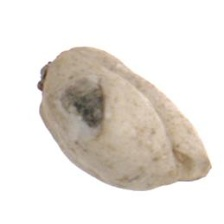L1: (165, 145, 212, 188), (36, 51, 53, 102)
L2: (36, 46, 213, 192)
